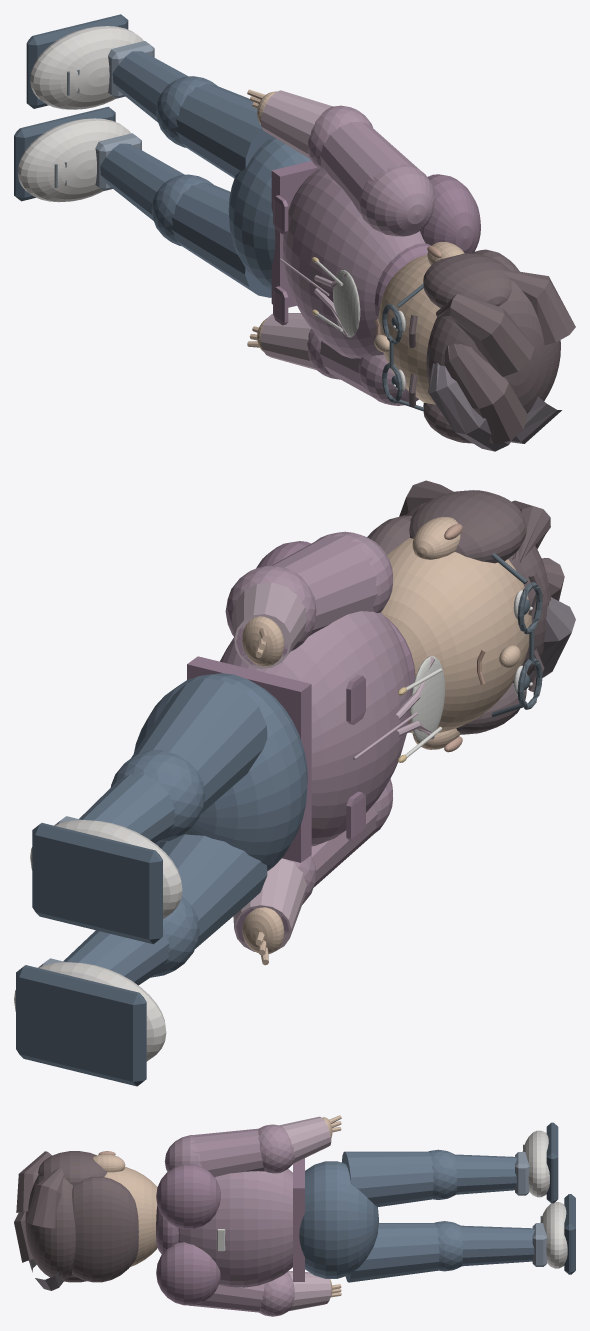
The model's file is designer_walkLeft_0.glb.
3 views of the same model, one above another, from view 1: azimuth 30°, elevation 25°; view 2: azimuth 150°, elevation 25°; view 3: azimuth 270°, elevation 25° (orthographic). The views are drawn at different scales.
Parts seen in each view (by area): view 1: 0000__hoodie_main_torso, 0050__sneaker, 0069__sneaker, 0065__jeans_thigh, 0014__pants_pelvis, 0022__hair_crown, 0046__jeans_thigh, 0017__face_head, 0075__hoodie_shoulder, 0027__hair_lock_1, 0076__sleeve_upper, 0028__hair_lock_2 (+23 smaller); view 2: 0000__hoodie_main_torso, 0017__face_head, 0070__rubber_sole, 0051__rubber_sole, 0014__pants_pelvis, 0065__jeans_thigh, 0046__jeans_thigh, 0076__sleeve_upper, 0025__temple_side, 0015__hoodie_hem, 0067__jeans_shin, 0066__knee_fold (+21 smaller); view 3: 0000__hoodie_main_torso, 0014__pants_pelvis, 0023__hair_back, 0065__jeans_thigh, 0046__jeans_thigh, 0009__hood_folds, 0005__hood_folds, 0022__hair_crown, 0048__jeans_shin, 0076__sleeve_upper, 0067__jeans_shin, 0017__face_head (+22 smaller).
Boxes of the visible parts, x1,y1,x2,y2 form: 0000__hoodie_main_torso: (283,168,425,358); 0050__sneaker: (17,118,131,202); 0069__sneaker: (30,26,143,109); 0065__jeans_thigh: (175,83,272,178); 0014__pants_pelvis: (228,136,311,290); 0022__hair_crown: (426,281,560,413); 0046__jeans_thigh: (171,182,271,297); 0017__face_head: (378,254,440,404); 0075__hoodie_shoulder: (358,164,435,236); 0027__hair_lock_1: (444,343,527,443); 0076__sleeve_upper: (320,121,419,213); 0028__hair_lock_2: (436,293,534,376); 0000__hoodie_main_torso: (220,611,410,846); 0017__face_head: (381,538,531,733); 0070__rubber_sole: (32,823,162,944); 0051__rubber_sole: (16,965,146,1086); 0014__pants_pelvis: (133,673,307,870); 0065__jeans_thigh: (131,678,267,813); 0046__jeans_thigh: (158,834,267,948); 0076__sleeve_upper: (272,534,378,635); 0025__temple_side: (409,490,526,563); 0015__hoodie_hem: (187,656,311,862); 0067__jeans_shin: (79,774,174,843); 0066__knee_fold: (110,750,205,842); 0000__hoodie_main_torso: (178,1169,292,1287); 0014__pants_pelvis: (299,1161,378,1278); 0023__hair_back: (72,1176,138,1282); 0065__jeans_thigh: (341,1151,433,1207); 0046__jeans_thigh: (345,1223,439,1282); 0009__hood_folds: (156,1164,220,1229); 0005__hood_folds: (156,1242,220,1305); 0022__hair_crown: (25,1173,75,1279); 0048__jeans_shin: (461,1225,534,1266); 0076__sleeve_upper: (191,1128,264,1177); 0067__jeans_shin: (455,1154,517,1194); 0017__face_head: (104,1167,157,1266).
Bounding box in the file's own units: 0.5728 × 0.764 × 2.07.
